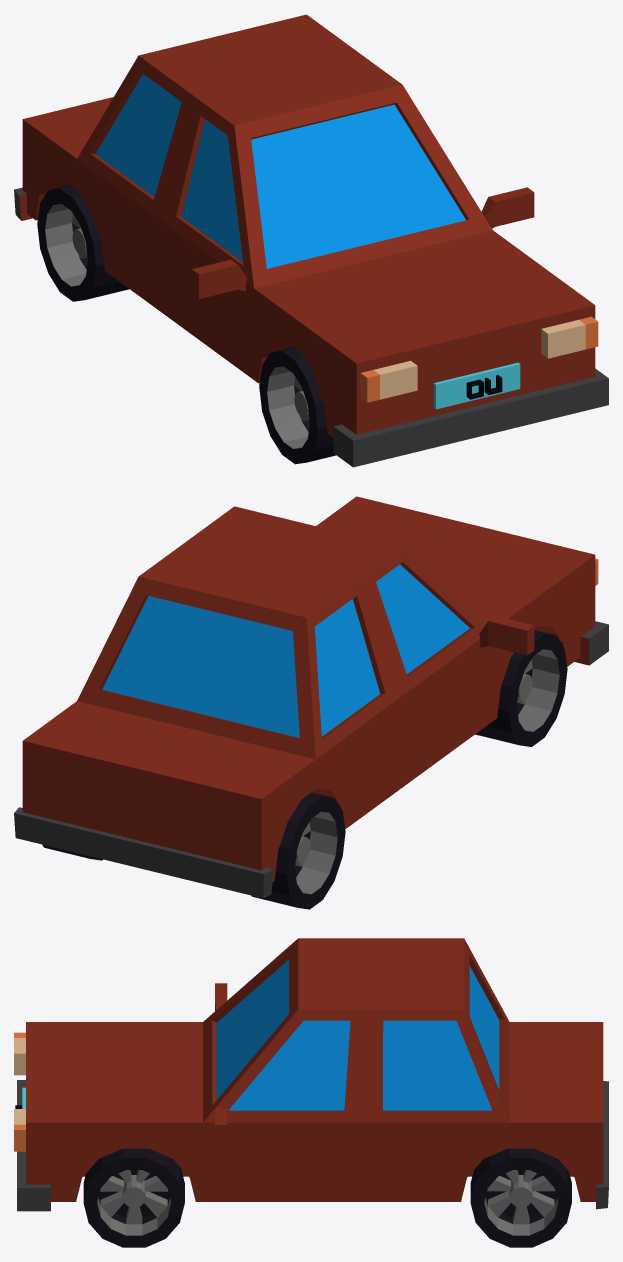
File: test_car_with_wheels (3).glb
3 views of the same model, one above another, from view 1: azimuth 30°, elevation 25°; view 2: azimuth 150°, elevation 25°; view 3: azimuth 270°, elevation 25° (orthographic). The views are drawn at different scales.
Parts seen in each view (by area): view 1: car, back_right_wheel, front_right_wheel; view 2: car, back_right_wheel, front_right_wheel; view 3: car, front_left_wheel, back_left_wheel.
Part boxes in pixels (x1,y1,x2,y2): car: [14, 14, 608, 467]; back_right_wheel: [37, 184, 129, 301]; front_right_wheel: [259, 347, 335, 464]; car: [14, 496, 608, 898]; back_right_wheel: [251, 792, 345, 909]; front_right_wheel: [475, 630, 567, 746]; car: [14, 938, 608, 1211]; front_left_wheel: [83, 1148, 184, 1247]; back_left_wheel: [470, 1148, 571, 1247].
Bounding box in the file's own units: 2.53 × 1.83 × 4.49.
